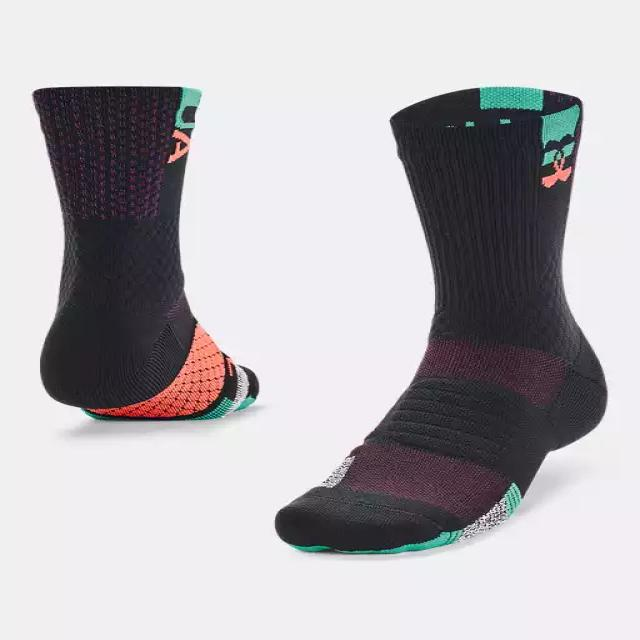sock: (272, 85, 608, 554), (31, 84, 259, 421)
